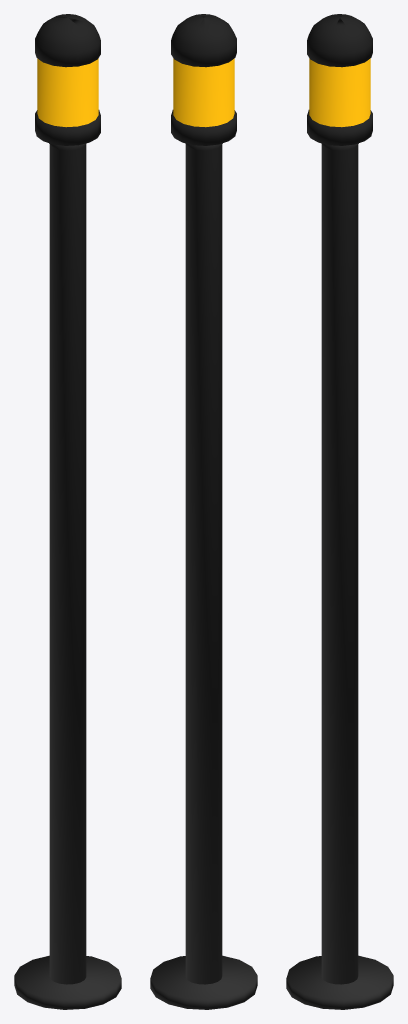
Rendered from CityLamp.fbx.
3 views of the same model, side by side, from view 1: azimuth 30°, elevation 25°; view 2: azimuth 150°, elevation 25°; view 3: azimuth 330°, elevation 25° (orthographic).
Visible parts, largest first — view 1: Cylinder; view 2: Cylinder; view 3: Cylinder.
Boxes of the visible parts, box(x1,y1,x2,y2) form: Cylinder: box(14, 14, 121, 1009); Cylinder: box(150, 14, 257, 1009); Cylinder: box(286, 14, 393, 1009).
Size of the model in its own units: 28.2 by 286 by 28.2.
